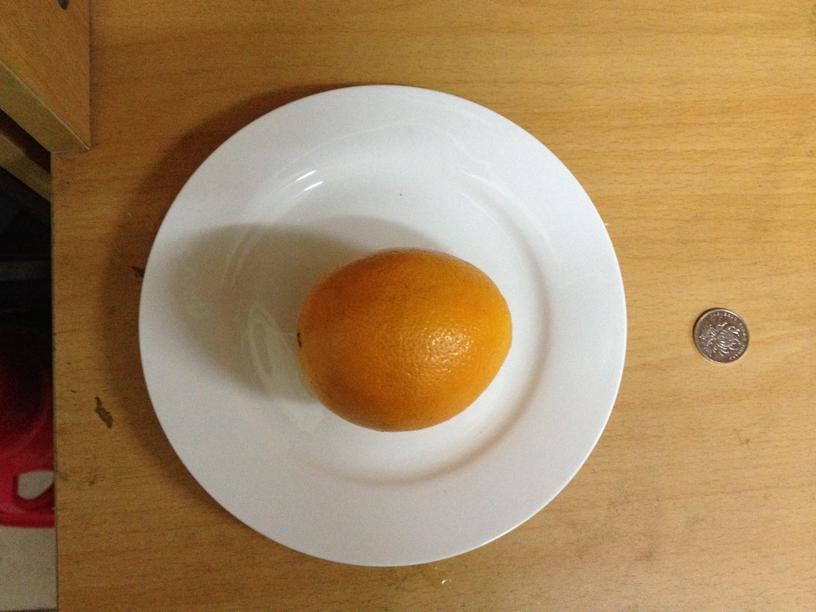coin: (688, 303, 751, 362)
orange: (294, 252, 512, 432)
